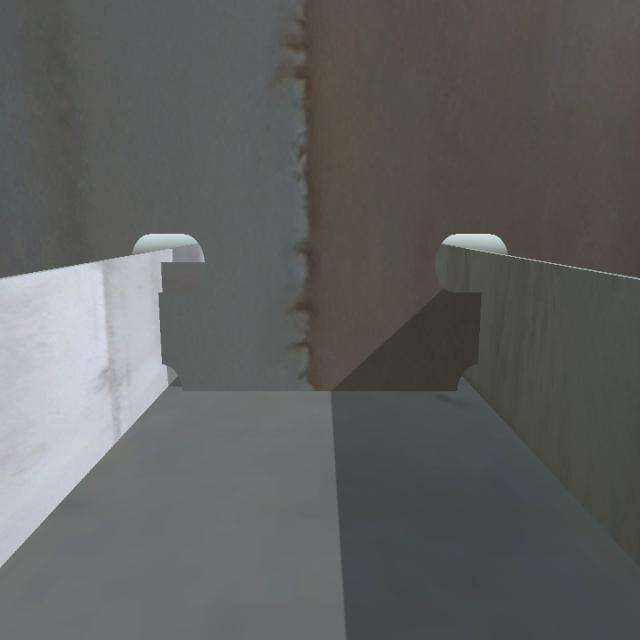fillet_hole: (150, 354, 192, 404), (454, 358, 487, 401), (227, 468, 228, 468)
fillet_yong_jeop_jang: (186, 386, 458, 400)
longi_yong_jeop_jang: (152, 264, 170, 364), (470, 291, 484, 367)
plate_behind: (159, 260, 208, 294)
